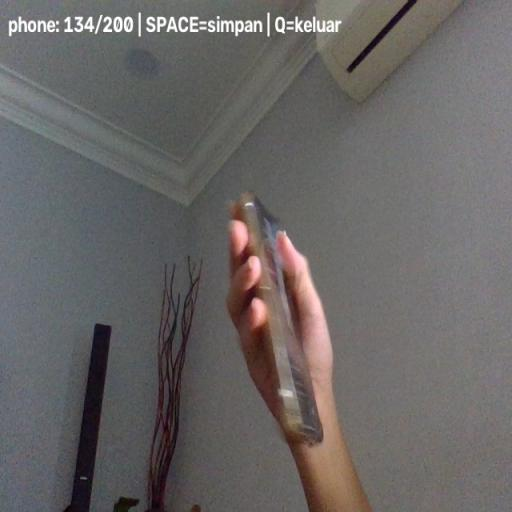Phone: (234, 193, 324, 445)
